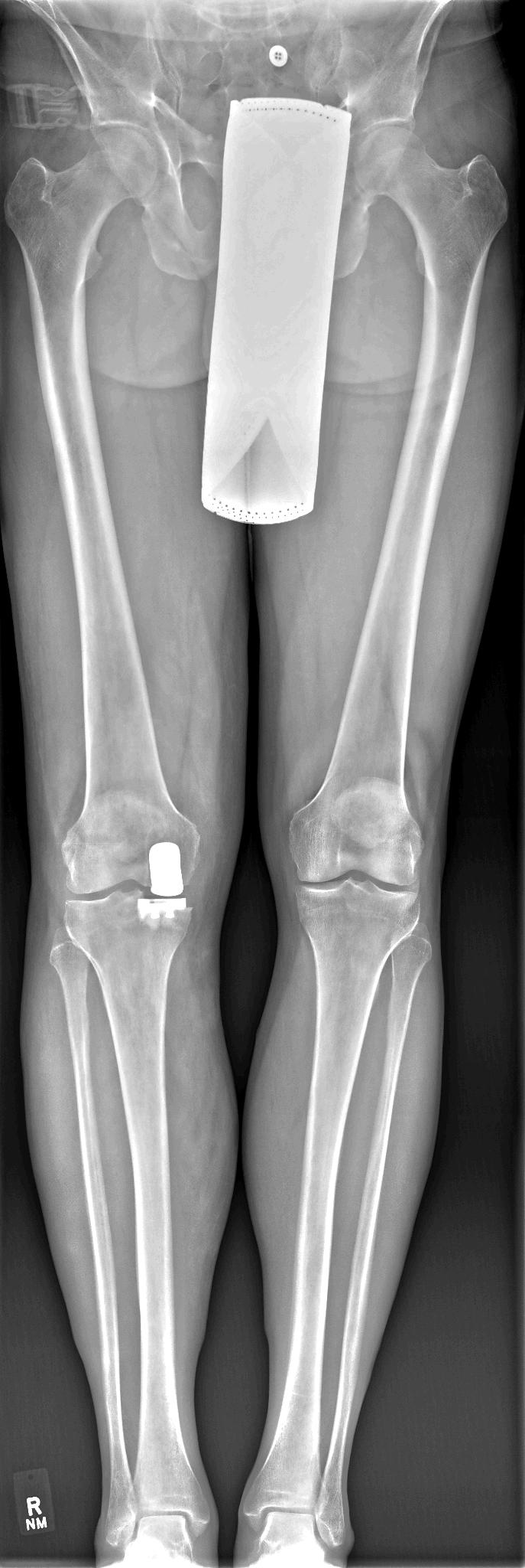Leg Fibula: (315, 922, 431, 1549), (50, 929, 136, 1549)
Leg Tibia: (241, 878, 419, 1528), (66, 892, 210, 1532)
femur: (288, 126, 508, 885), (6, 128, 202, 895)
